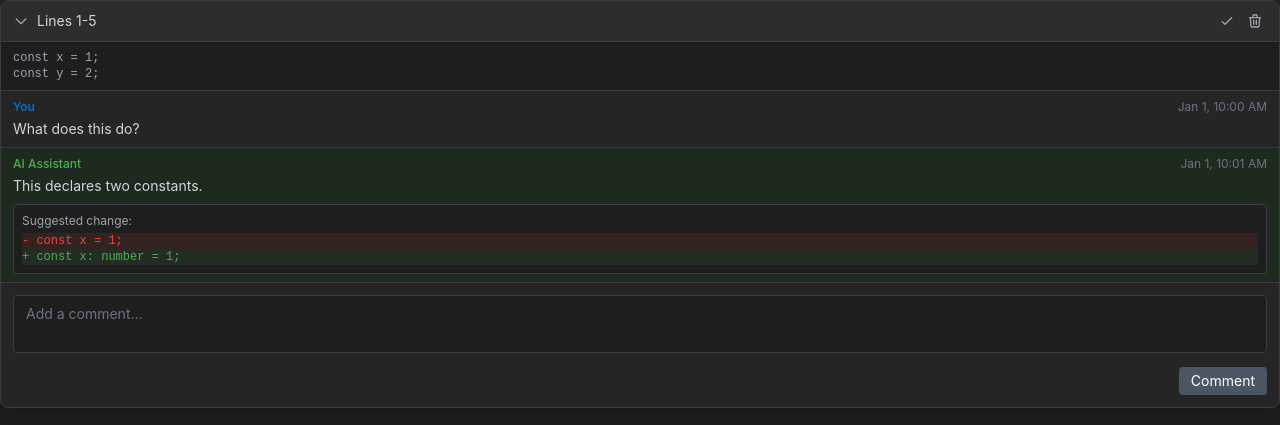
Test case: InlineThread › enables submit button when comment has text
In the text box with placeholder "Add a comment...": (640, 324) [13,295,1267,353], type "New comment"
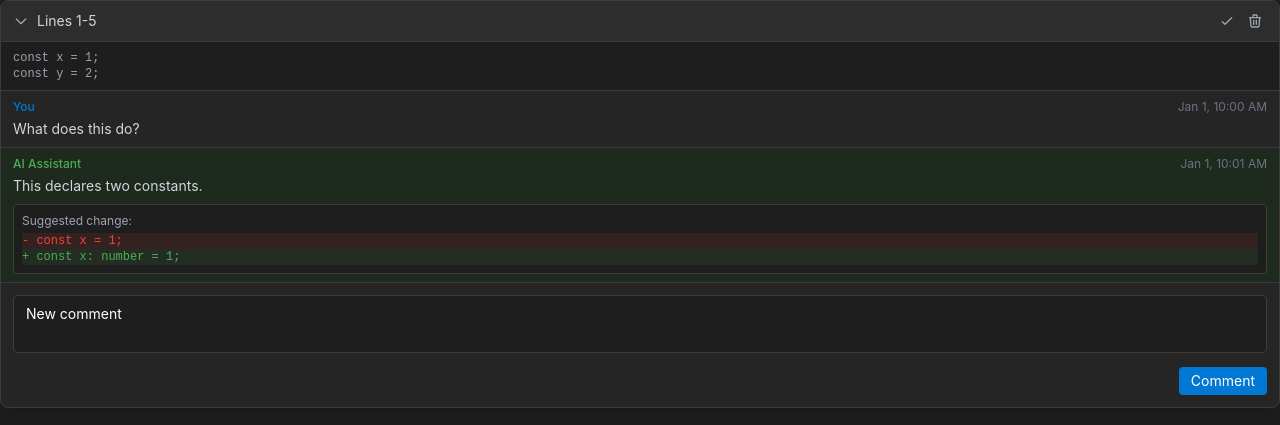
Expected: the button "Comment" is enabled, [1179,367,1267,395]
